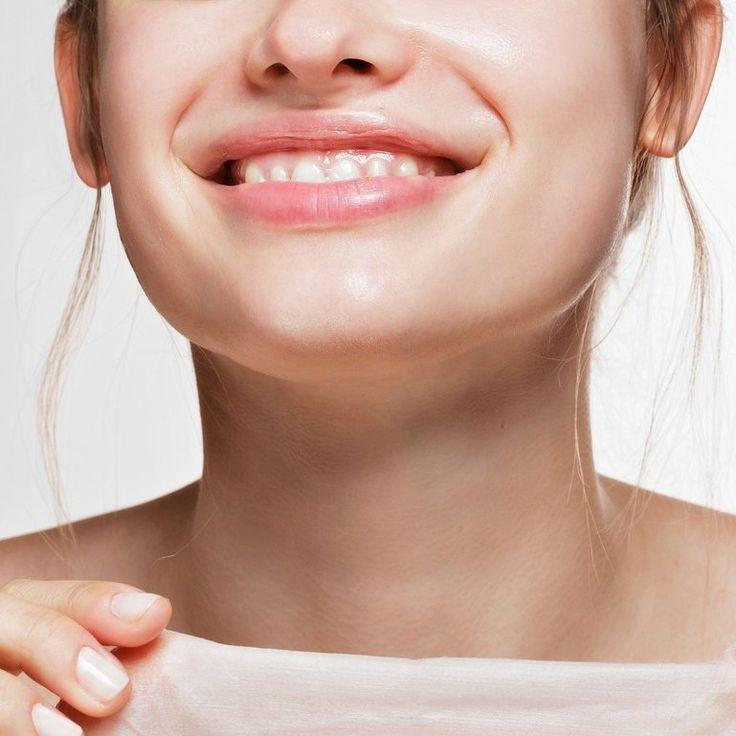Oily-Skin: (260, 238, 470, 308), (442, 8, 602, 82), (120, 14, 222, 86)
